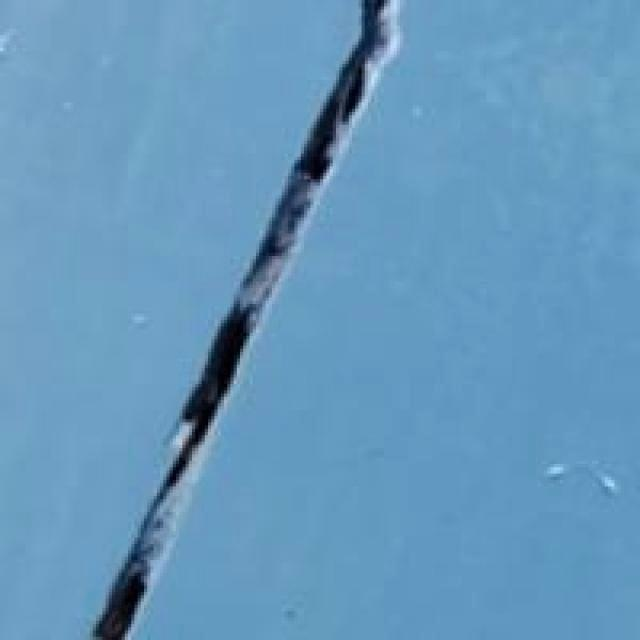SurfaceCrack: (64, 0, 430, 640)
